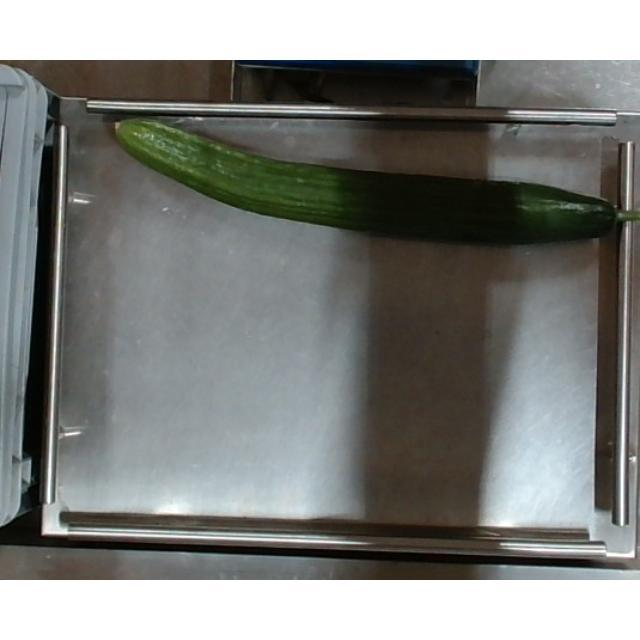cucumber: (110, 113, 640, 239)
